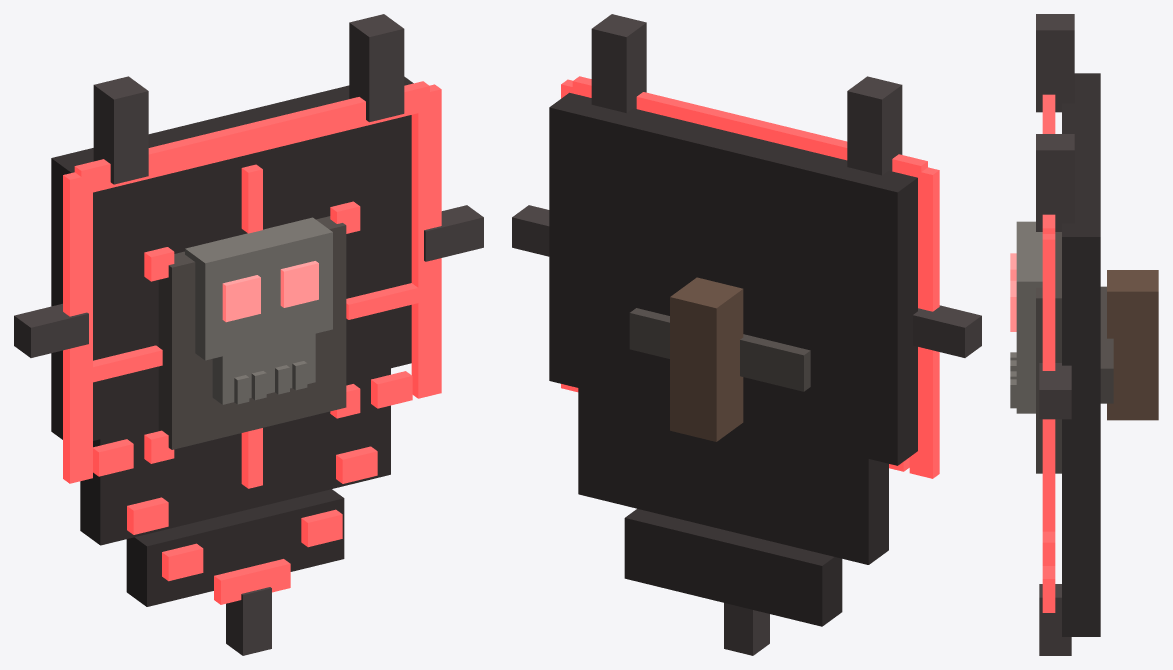
The model's file is shadow_shield.glb.
3 renders of one model, left to right at view 1: azimuth 30°, elevation 25°; view 2: azimuth 150°, elevation 25°; view 3: azimuth 270°, elevation 25°, orthographic. The views are drawn at different scales.
Visible parts, largest first — view 1: Weapon_Shadow_Shield; view 2: Weapon_Shadow_Shield; view 3: Weapon_Shadow_Shield.
Boxes of the visible parts, box(x1,y1,x2,y2) form: Weapon_Shadow_Shield: box(14, 14, 483, 655); Weapon_Shadow_Shield: box(512, 14, 981, 655); Weapon_Shadow_Shield: box(1010, 14, 1158, 655).
Size of the model in its own units: 0.78 by 0.97 by 0.23.
